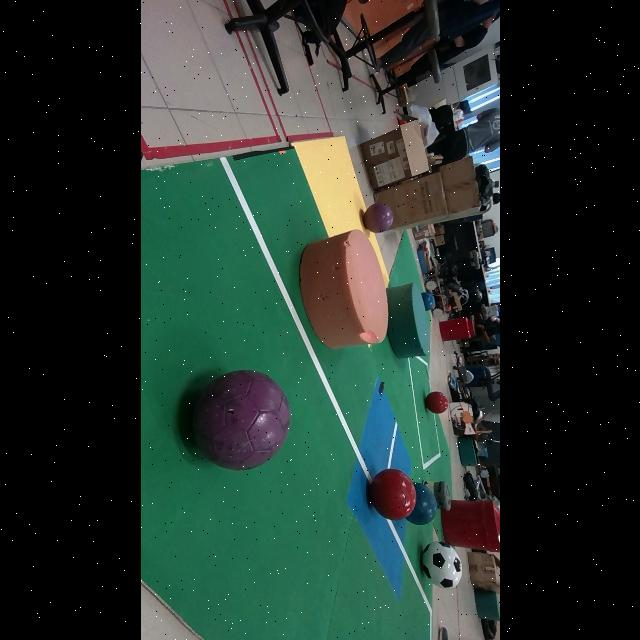B: (406, 483, 437, 525), (422, 293, 434, 311)
P: (192, 370, 290, 470), (363, 203, 393, 234)
R: (369, 469, 415, 520), (425, 392, 448, 414)
